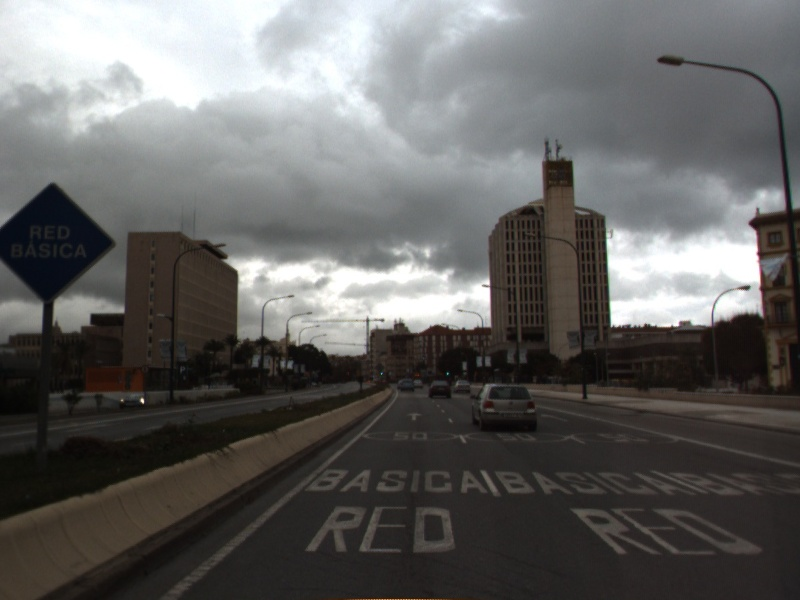STRAIGHT: (539, 411, 571, 424), (405, 410, 425, 423)
